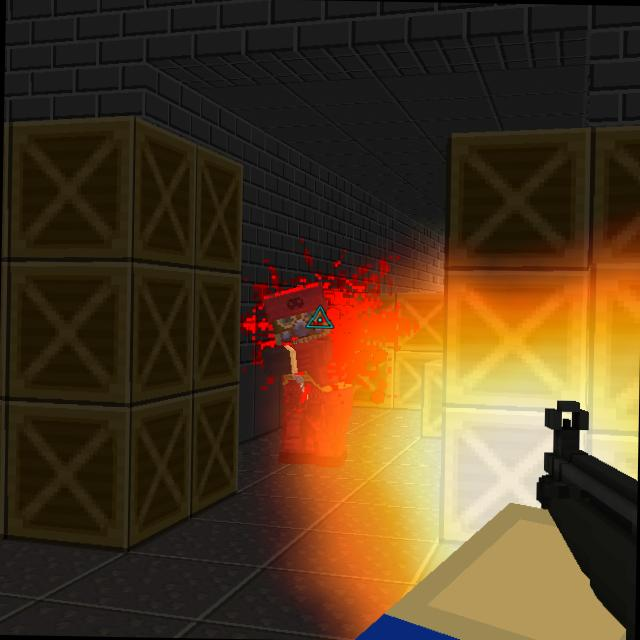enemy: (250, 279, 359, 472)
